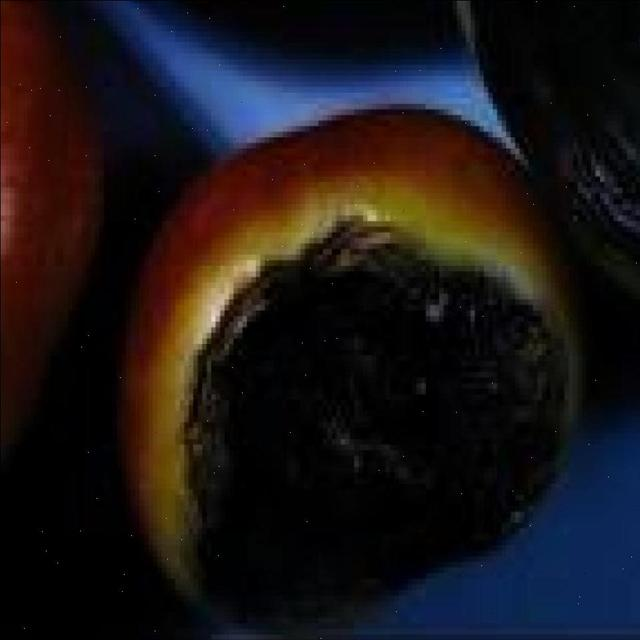Blossom End Rot Fruit: (113, 83, 370, 272)
